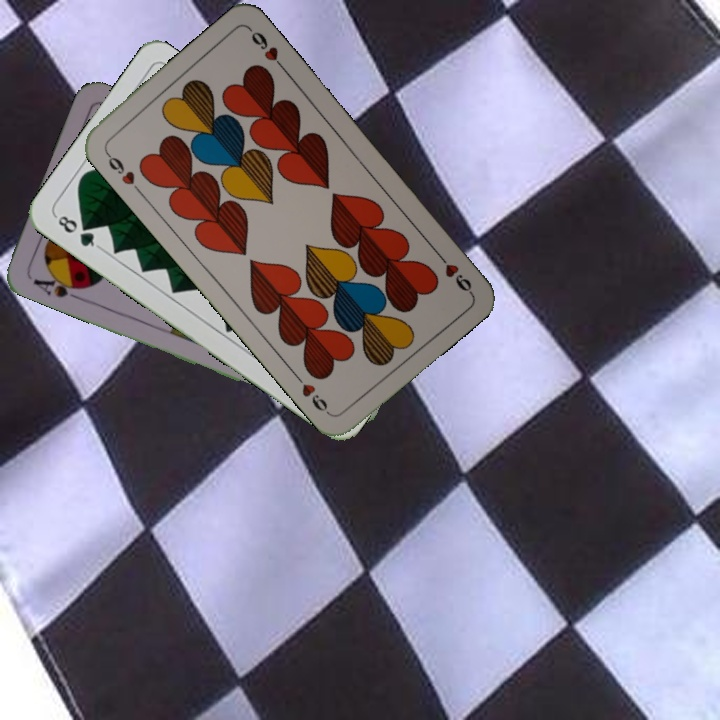G8: (51, 211, 103, 251)
H9: (431, 247, 475, 296), (101, 147, 144, 196)
SA: (29, 269, 87, 303)
